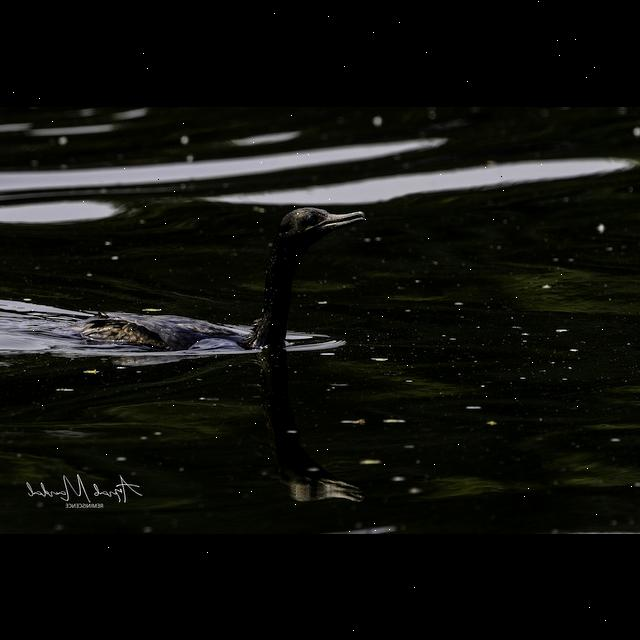cormorant: (77, 192, 373, 351)
